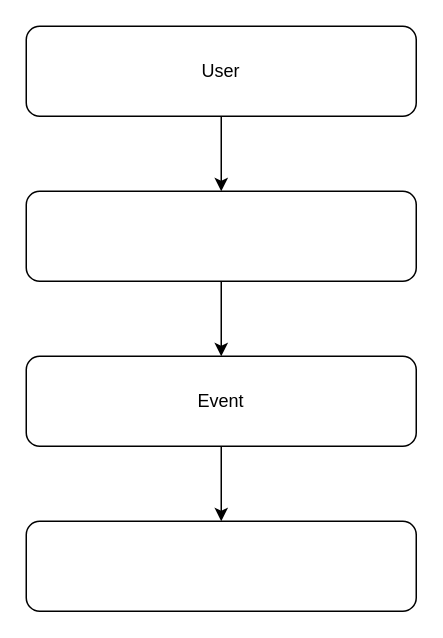
Image size: 443x638. Some labels were removed from this diagram. Here are the shapes that lost their labels. From the top down, the box of each, then its label:
(25, 190, 416, 281): Finance
(25, 520, 416, 611): Memory
